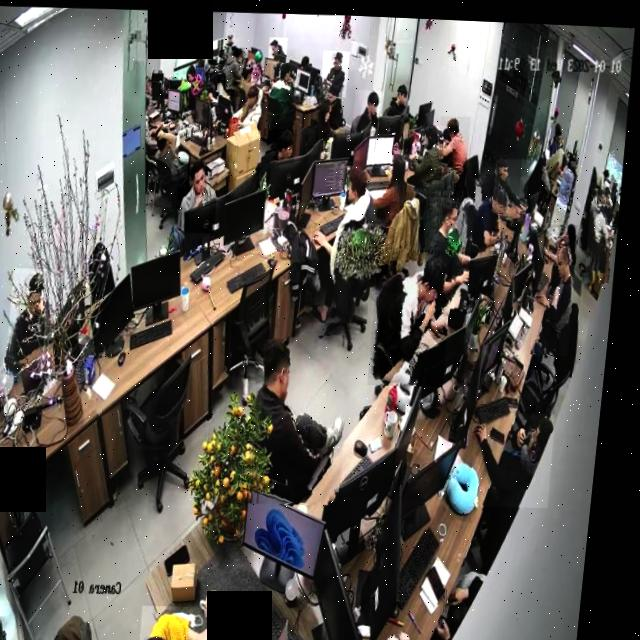person: (251, 329, 362, 503), (306, 160, 385, 320), (373, 244, 461, 383), (477, 406, 565, 503), (423, 192, 481, 307), (10, 266, 67, 378), (534, 232, 584, 351), (466, 170, 515, 248), (178, 158, 224, 232), (151, 602, 237, 640), (587, 181, 620, 278), (370, 148, 412, 224), (436, 111, 473, 187), (408, 120, 447, 189), (151, 121, 195, 182), (495, 153, 534, 209), (306, 94, 342, 150), (231, 79, 267, 134), (268, 59, 300, 119), (546, 218, 584, 259), (320, 46, 351, 94), (353, 86, 384, 134), (217, 44, 246, 94), (263, 125, 300, 161), (389, 79, 413, 117), (196, 42, 216, 71), (268, 33, 288, 61)
